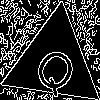Q: (29, 37, 86, 99)
